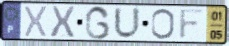F: (177, 8, 207, 41)
G: (84, 5, 111, 41)
O: (150, 8, 177, 41)
U: (113, 5, 142, 41)
X: (49, 5, 77, 39), (23, 5, 49, 39)
